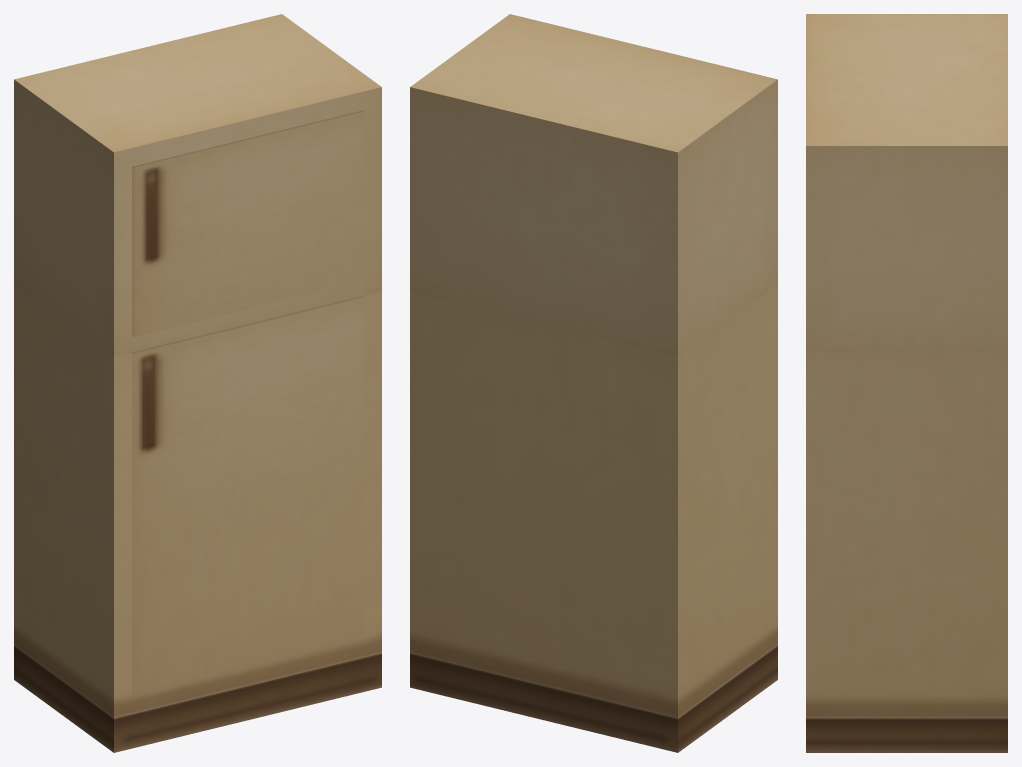
Rendered from Fridge.fbx.
3 views of the same model, side by side, from view 1: azimuth 30°, elevation 25°; view 2: azimuth 150°, elevation 25°; view 3: azimuth 270°, elevation 25° (orthographic).
Visible parts, largest first — view 1: Fridge, FridgeDoor, FreezerDoor; view 2: Fridge; view 3: Fridge.
Part boxes in pixels (<box>): Fridge: <box>14,14,381,752</box>; FridgeDoor: <box>132,296,363,695</box>; FreezerDoor: <box>132,110,363,337</box>; Fridge: <box>410,14,777,752</box>; Fridge: <box>806,14,1007,752</box>.
Bounding box in the file's own units: 232 × 150 × 497.
